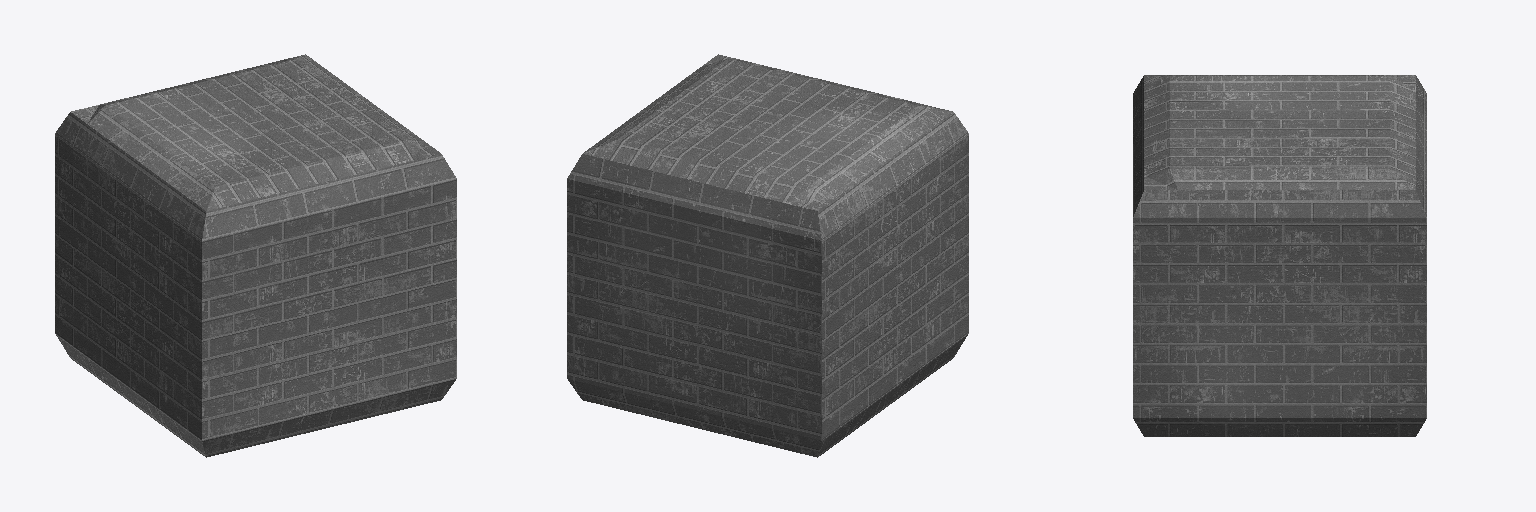
3 views of the same model, side by side, from view 1: azimuth 30°, elevation 25°; view 2: azimuth 150°, elevation 25°; view 3: azimuth 270°, elevation 25° (orthographic).
Visible parts, largest first — view 1: Cube; view 2: Cube; view 3: Cube.
Part boxes in pixels (left/top/right/bottom): Cube: left=55, top=54, right=456, bottom=457; Cube: left=567, top=54, right=968, bottom=457; Cube: left=1133, top=75, right=1426, bottom=436.
Bounding box in the file's own units: 1 × 1 × 1.
1 materials, 1 textured.